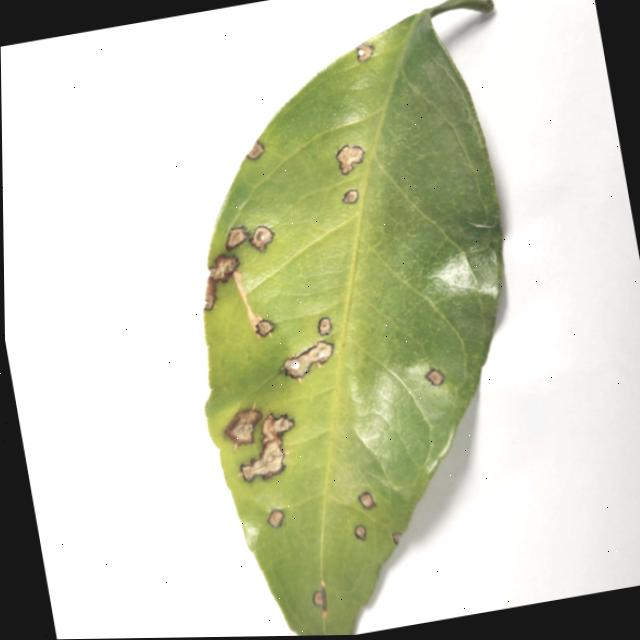antracnose: (203, 0, 502, 636), (240, 414, 293, 482), (204, 254, 238, 310), (281, 341, 332, 378), (224, 409, 261, 450), (336, 145, 363, 175), (249, 226, 273, 251), (225, 227, 247, 250), (425, 369, 444, 386), (356, 44, 373, 62), (246, 142, 263, 160), (255, 320, 273, 337), (358, 492, 375, 509), (267, 509, 283, 527), (317, 317, 331, 335), (342, 189, 358, 204), (354, 524, 365, 541), (312, 591, 322, 607), (392, 533, 400, 544)
